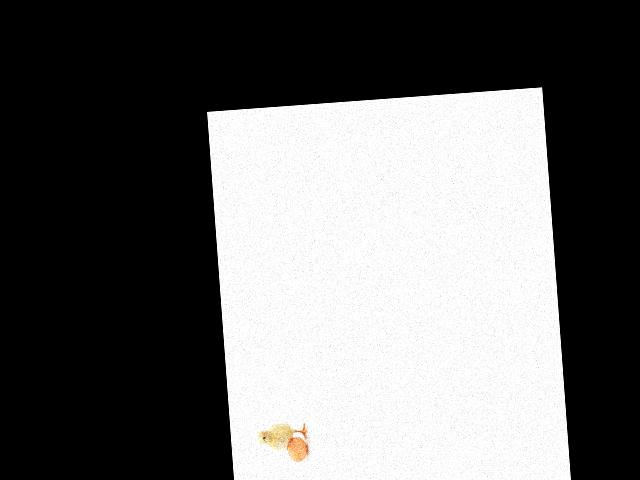egg: (286, 435, 308, 462)
